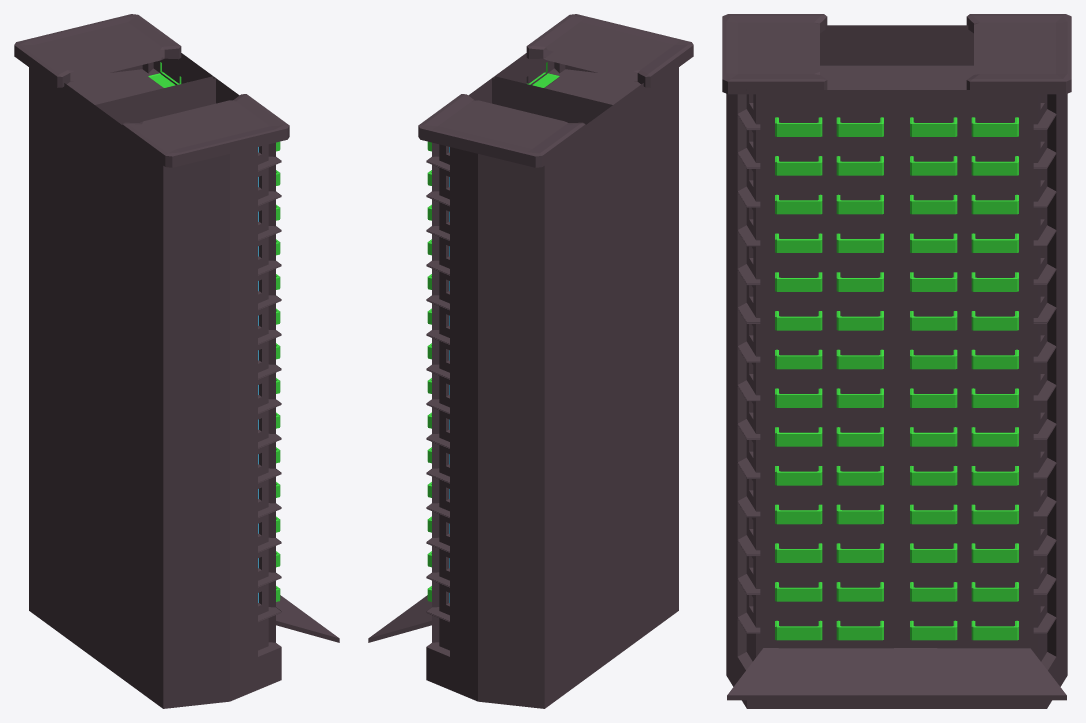
The model's file is buildings17.fbx.
3 views of the same model, side by side, from view 1: azimuth 30°, elevation 25°; view 2: azimuth 150°, elevation 25°; view 3: azimuth 270°, elevation 25° (orthographic). The views are drawn at different scales.
Parts seen in each view (by area): view 1: 13; view 2: 13; view 3: 13.
Part boxes in pixels (x1,y1,x2,y2): 13: (14, 14, 339, 708); 13: (368, 14, 693, 708); 13: (722, 14, 1071, 708).
Size of the model in its own units: 7078 by 21831 by 11015.
